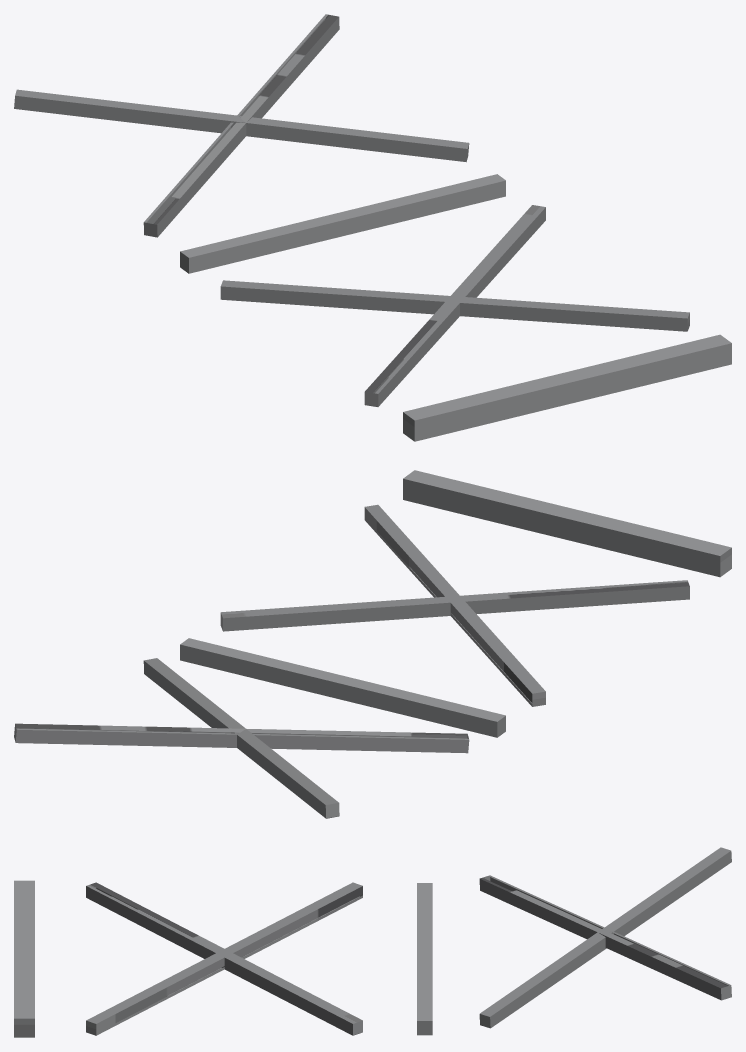
3 renders of one model, top to bottom at view 1: azimuth 30°, elevation 25°; view 2: azimuth 150°, elevation 25°; view 3: azimuth 270°, elevation 25°, orthographic. The views are drawn at different scales.
Size of the model in its own units: 1.03 by 0.1714 by 2.2.
